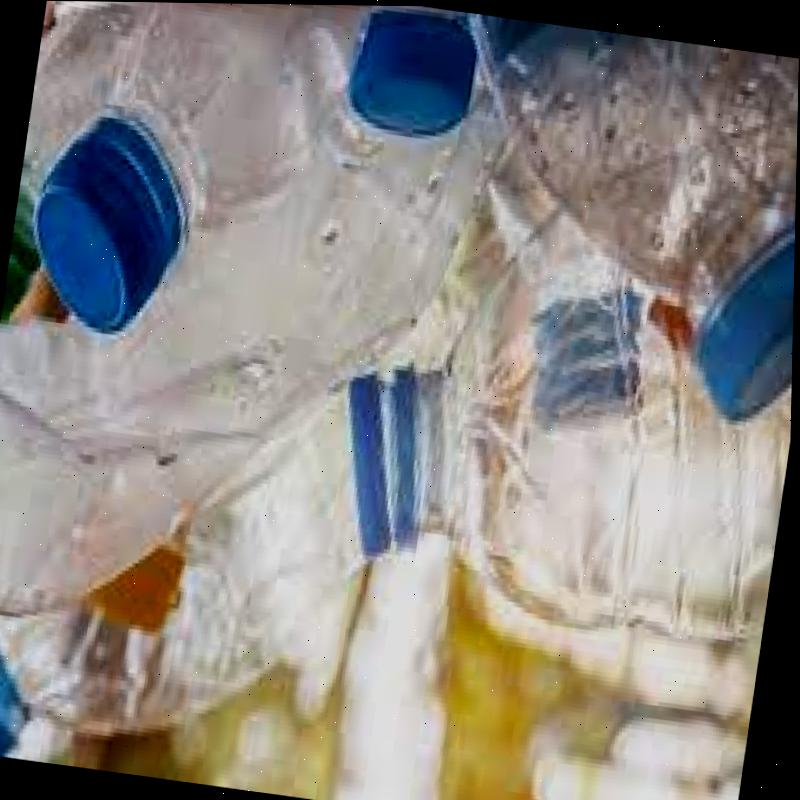botella: (320, 179, 797, 667), (0, 370, 387, 800), (426, 12, 800, 434), (0, 0, 357, 381)
